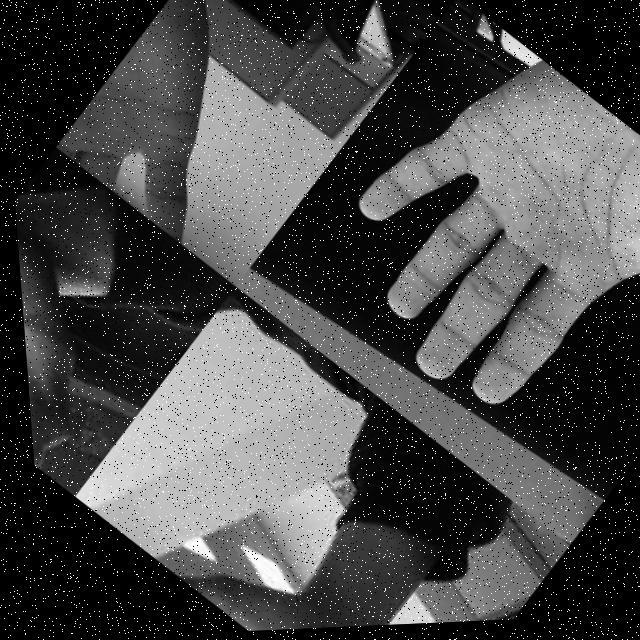no-gloves: (278, 22, 640, 528), (44, 0, 345, 265), (128, 442, 422, 636), (11, 198, 162, 471)
